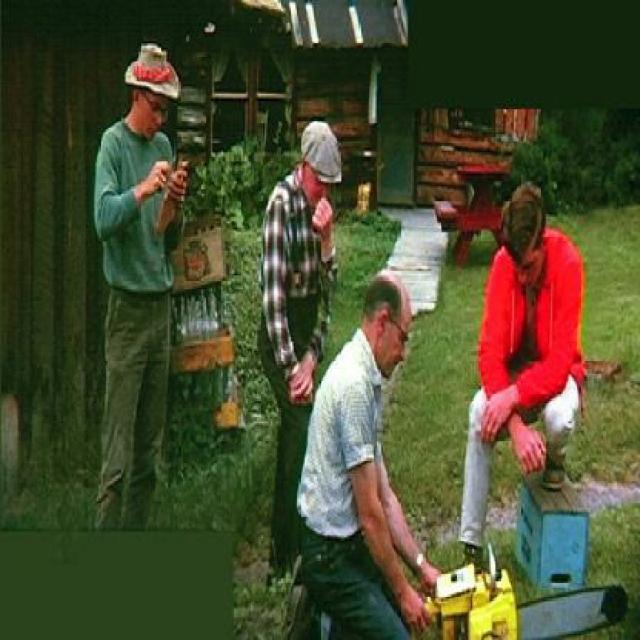Chainsaw: (421, 538, 628, 638)
